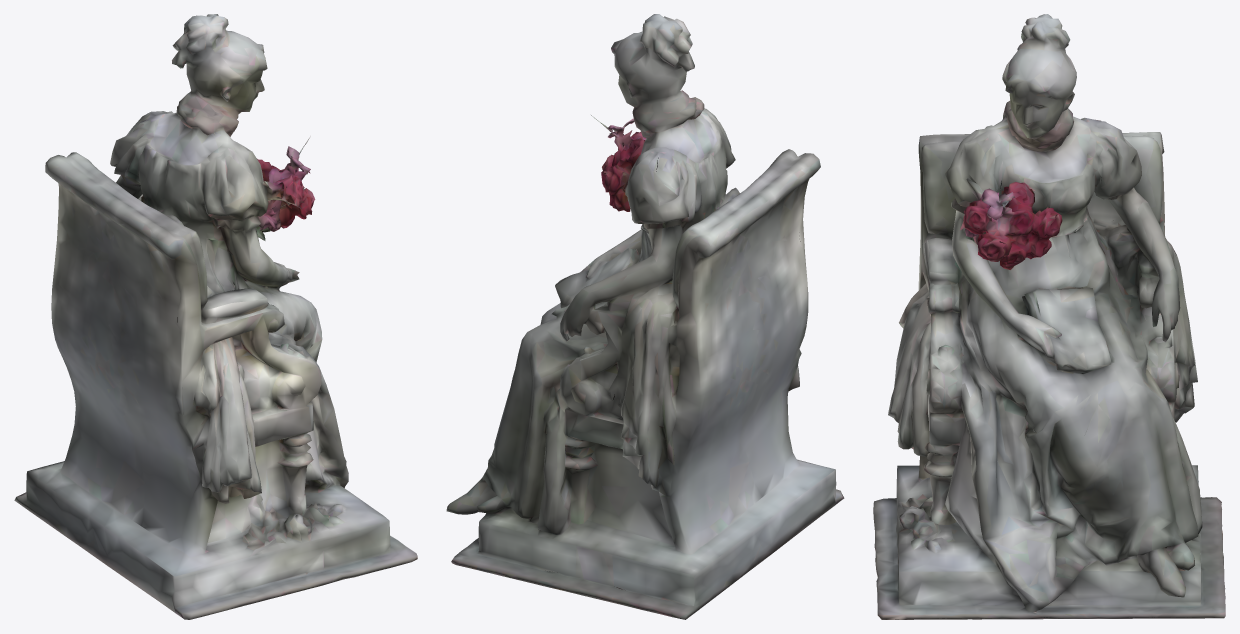
File: frauenfigur.glb
3 renders of one model, left to right at view 1: azimuth 30°, elevation 25°; view 2: azimuth 150°, elevation 25°; view 3: azimuth 270°, elevation 25°, orthographic. The views are drawn at different scales.
Parts seen in each view (by area): view 1: low; view 2: low; view 3: low.
Part boxes in pixels (<box>): low: <box>14,14,417,619</box>; low: <box>446,14,844,619</box>; low: <box>873,14,1225,619</box>.
Size of the model in its own units: 1.05 by 2 by 1.19.
Materials: 1 (1 with a texture image).
